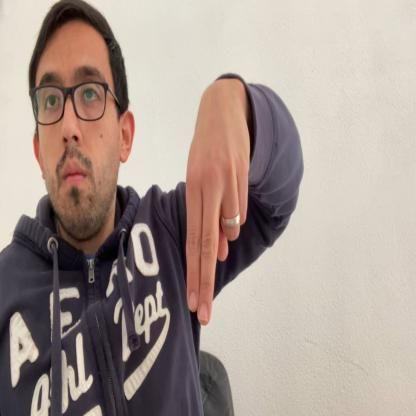N: (186, 86, 249, 326)
